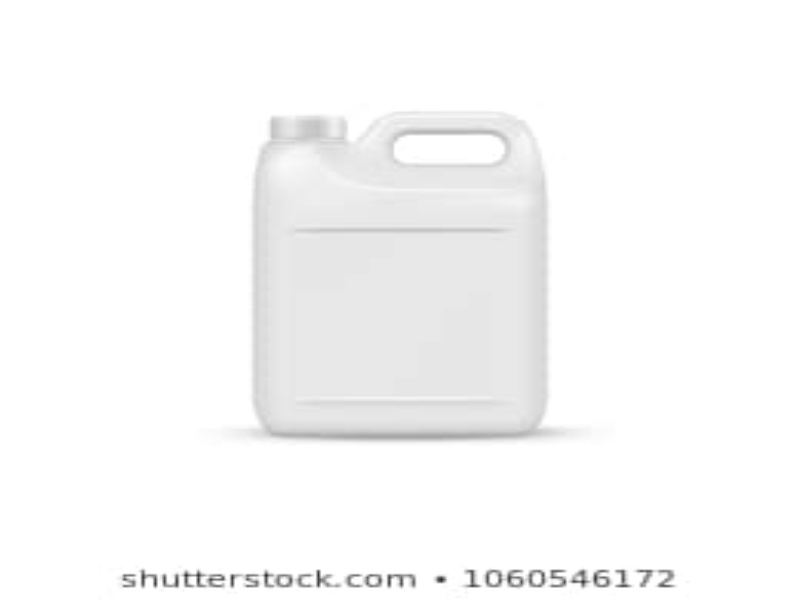bottle-cap: (262, 111, 349, 141)
detergent-bottle: (248, 108, 550, 439)
